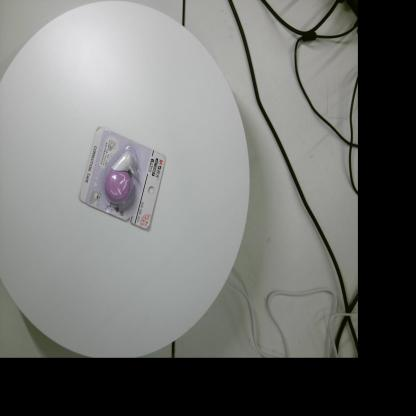Stationery: (79, 126, 166, 229)
